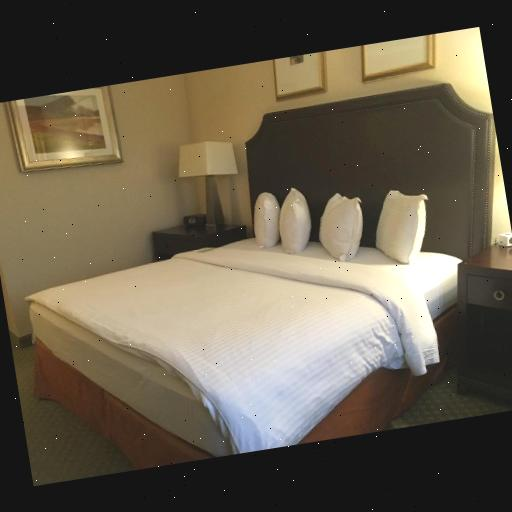clean_bed: (31, 79, 475, 461)
lamp: (159, 133, 250, 243)
organised_pillow: (238, 159, 452, 282)
